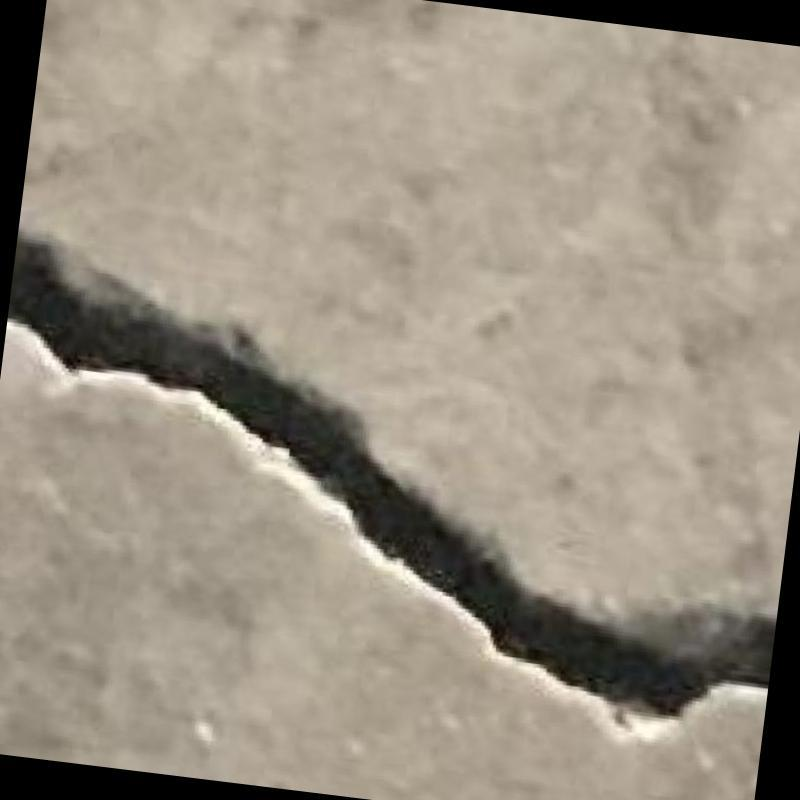pothole: (7, 230, 775, 715)
